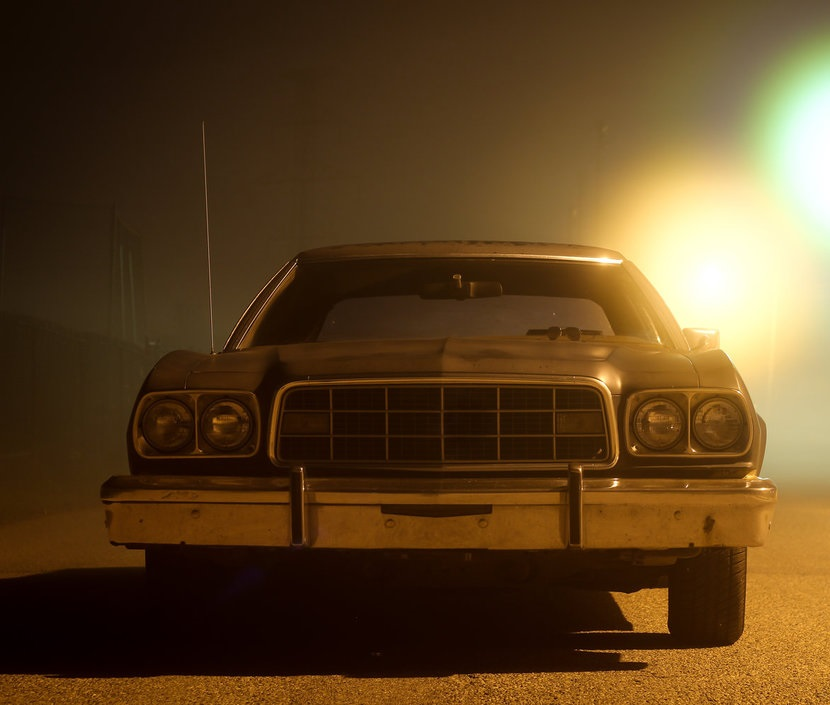car: (91, 220, 787, 656)
